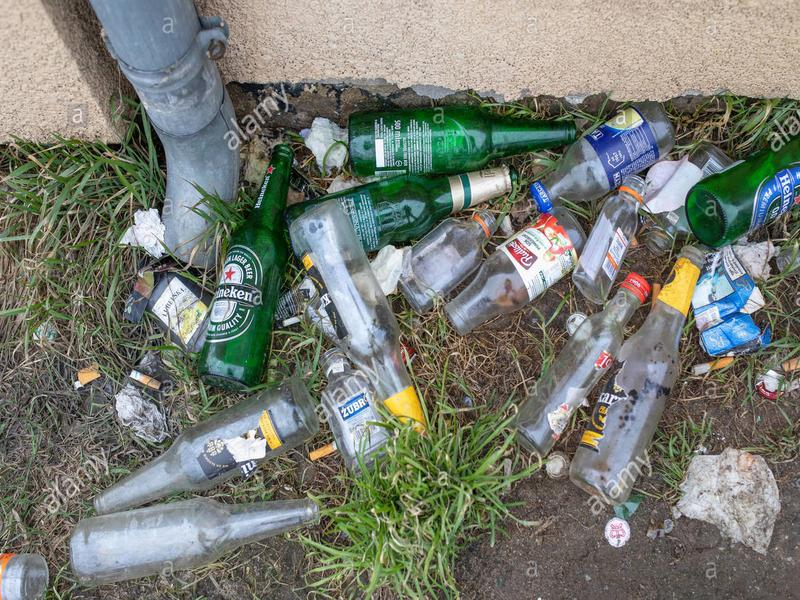bottle: (564, 242, 710, 507), (284, 198, 438, 436), (86, 379, 323, 514), (504, 273, 657, 463), (194, 136, 295, 391), (67, 501, 324, 586), (443, 205, 587, 342), (516, 96, 677, 213), (341, 103, 577, 176), (563, 174, 652, 305), (391, 209, 503, 313), (316, 348, 394, 474)
paper: (118, 206, 169, 262)
plastic: (676, 444, 781, 558)
